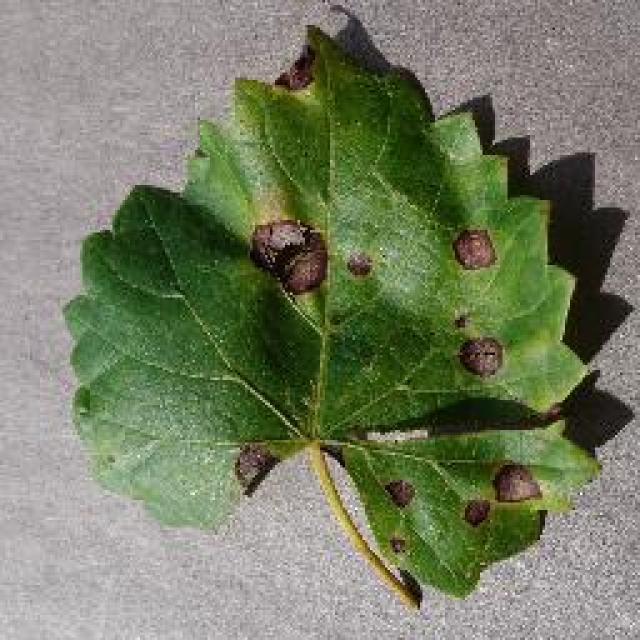Grape___Black_rot: (52, 16, 605, 604)
